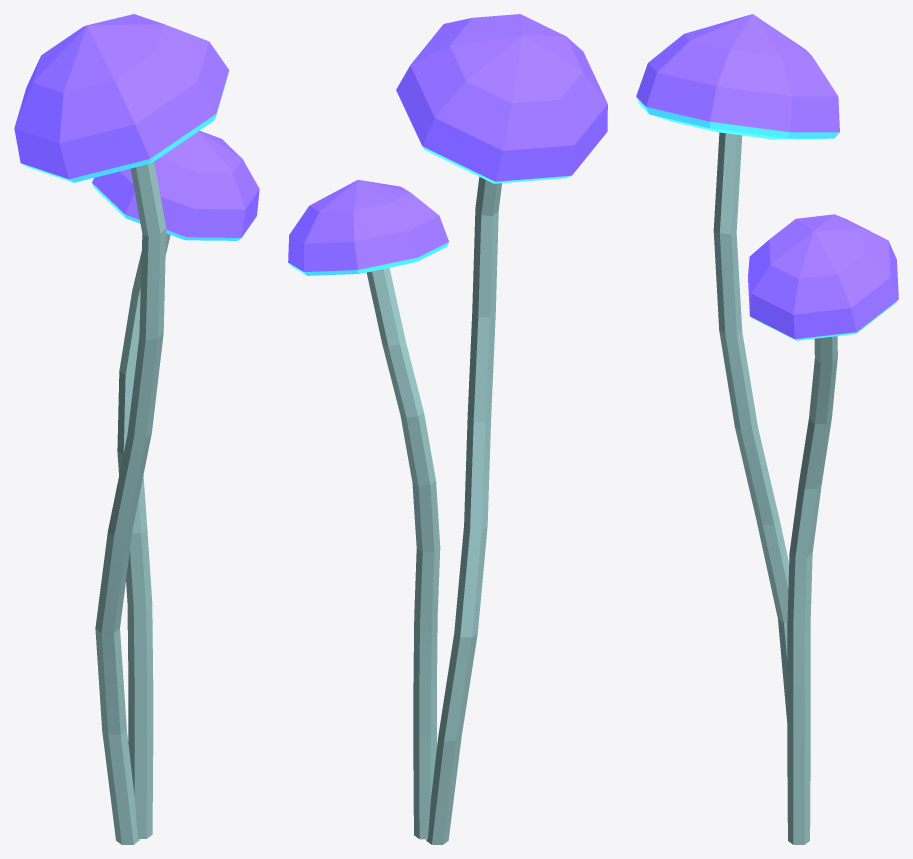
The model's file is scifi_scifi-tree-mushroom-medium.fbx.
3 renders of one model, left to right at view 1: azimuth 30°, elevation 25°; view 2: azimuth 150°, elevation 25°; view 3: azimuth 270°, elevation 25°, orthographic. The views are drawn at different scales.
Parts seen in each view (by area): view 1: scifi_scifi_tree_mushroom_medium; view 2: scifi_scifi_tree_mushroom_medium; view 3: scifi_scifi_tree_mushroom_medium.
Boxes of the visible parts, x1,y1,x2,y2 form: scifi_scifi_tree_mushroom_medium: (14,14,259,844); scifi_scifi_tree_mushroom_medium: (288,14,607,844); scifi_scifi_tree_mushroom_medium: (636,14,898,844).
Size of the model in its own units: 63.6 by 200 by 60.
